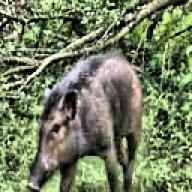boar: (25, 49, 144, 192)
